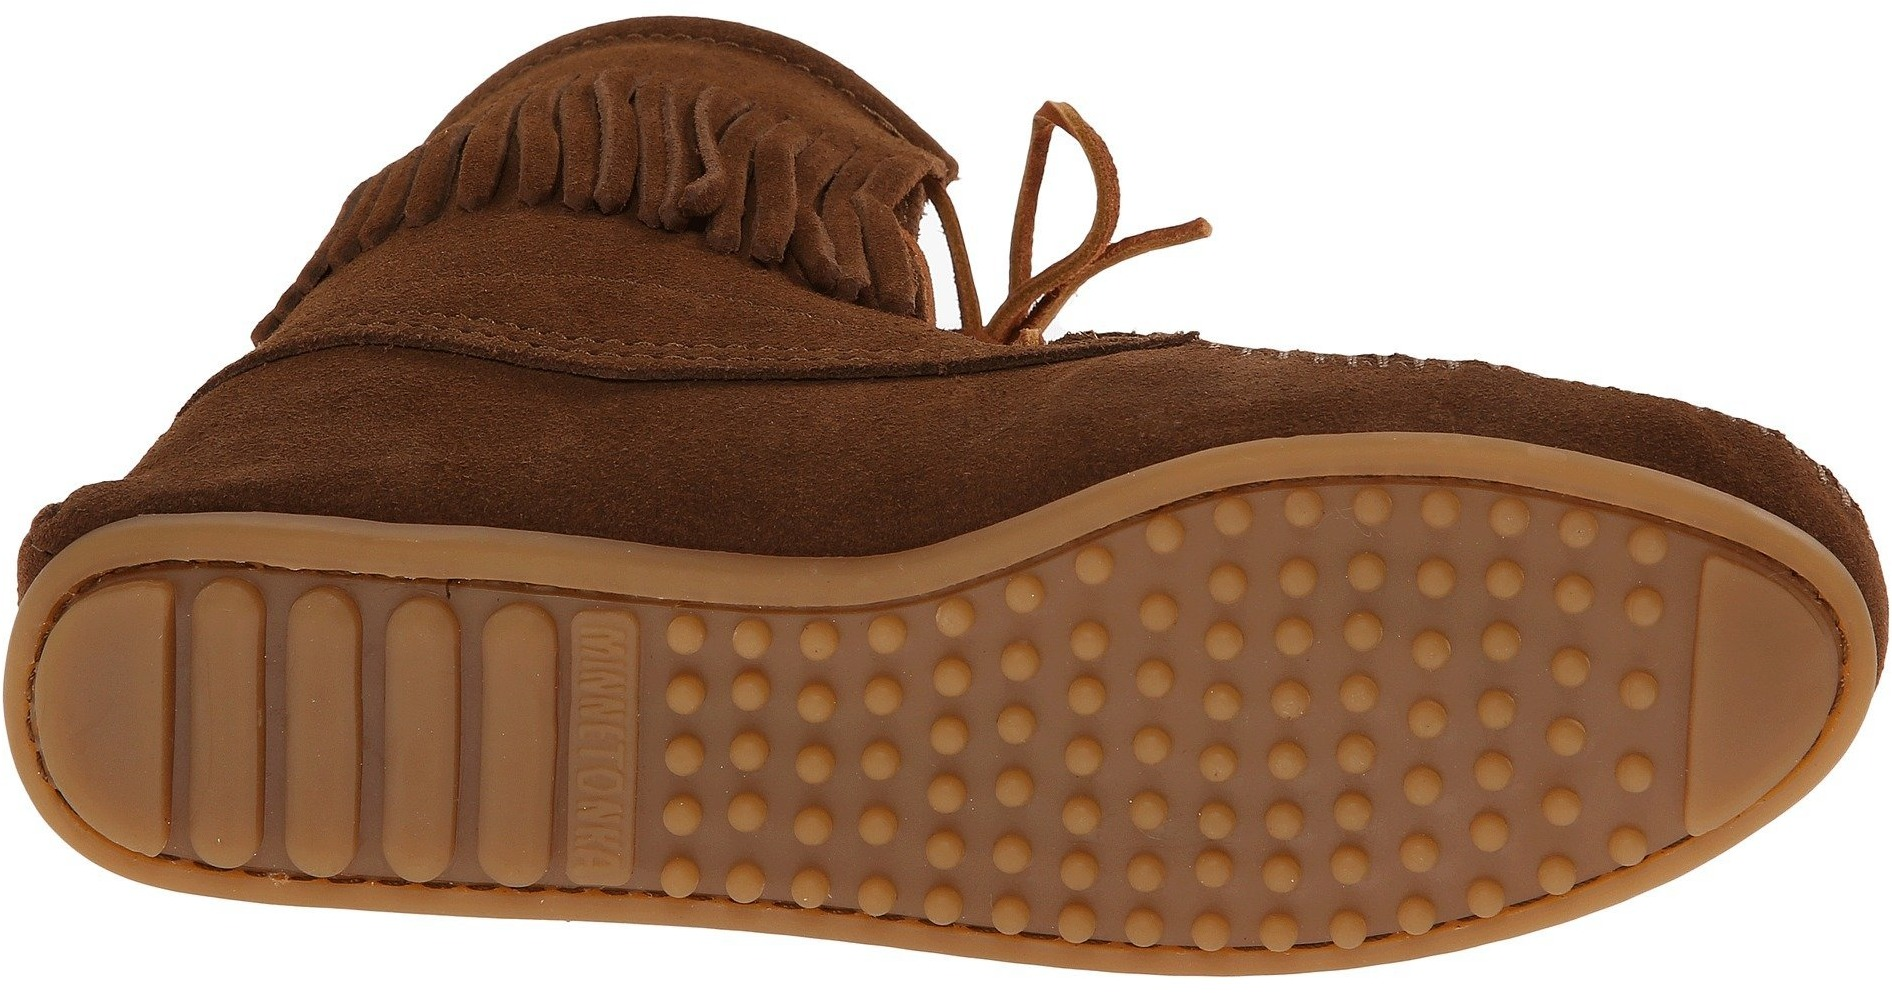circle: (1190, 517, 1527, 830), (656, 613, 920, 905), (923, 594, 1188, 849), (1545, 524, 1688, 682), (1208, 834, 1376, 948), (1535, 702, 1668, 837), (564, 720, 634, 802)
quad: (159, 562, 549, 913)
text: (561, 629, 644, 707), (564, 720, 634, 802)
